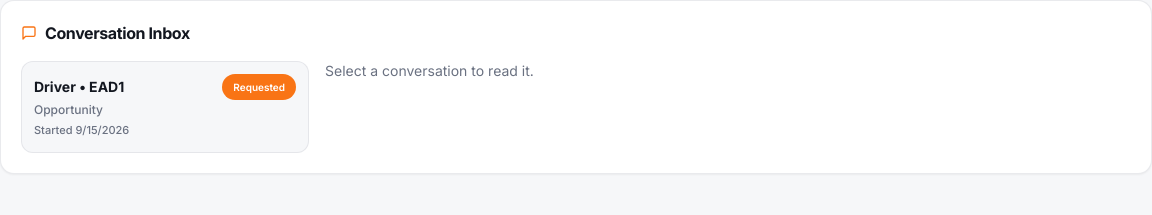
CF-1B / RecruiterConversationInbox › 3a requested thread exposes Accept/Decline but no composer
Click the button with test id "conversation-thread-item" at [79, 86], box [21, 61, 309, 153]
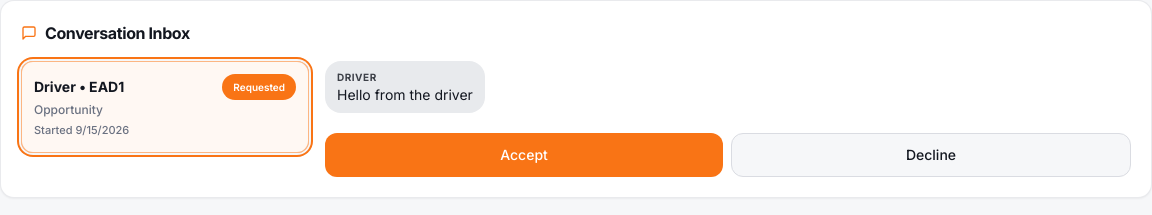
Now the button with test id "conversation-accept" is shown, box [325, 133, 723, 177]
Now the button with test id "conversation-decline" is shown, box [731, 133, 1131, 177]
